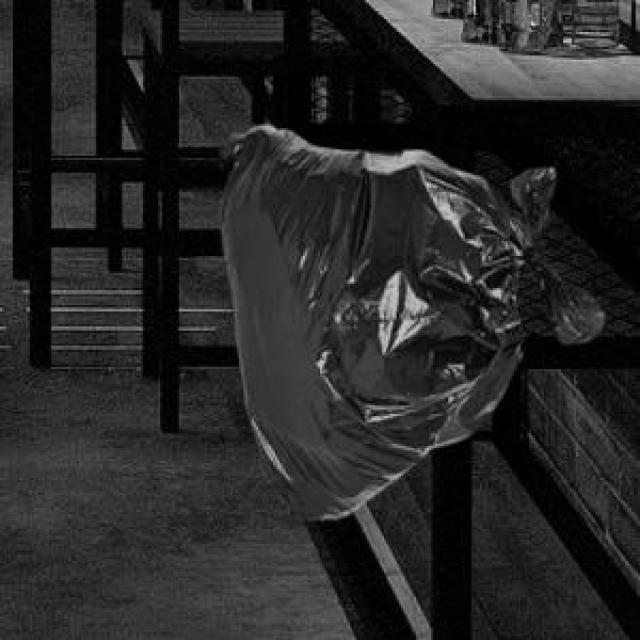miscellaneous trash: (213, 122, 600, 516)
